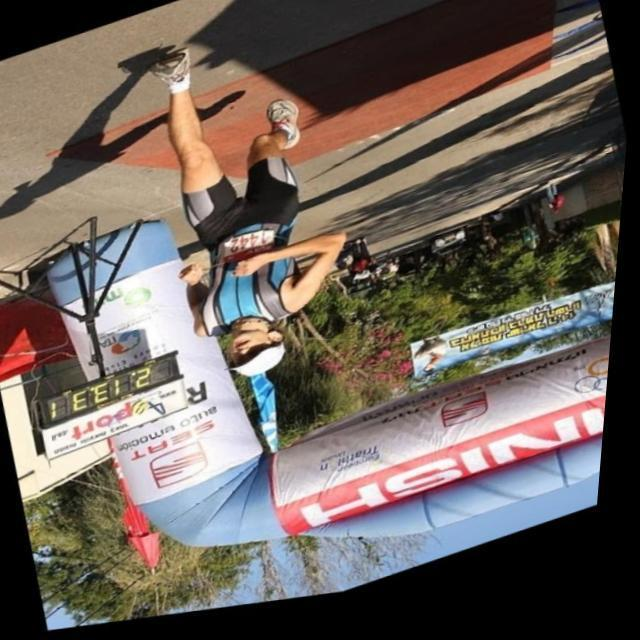dorsal: (215, 231, 280, 276)
